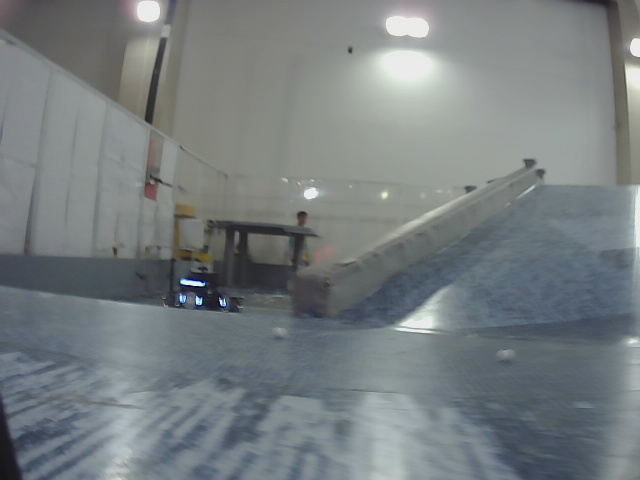lamp: (178, 294, 186, 305), (195, 296, 203, 305)
pair: (179, 294, 202, 306)
